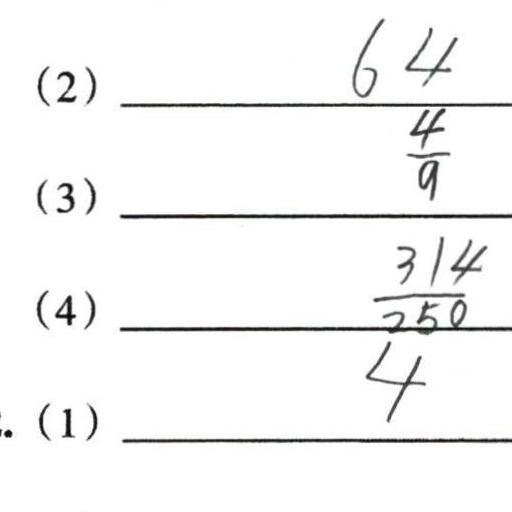ans: (370, 232, 488, 331), (349, 15, 460, 101), (362, 340, 430, 424), (399, 102, 452, 201)
